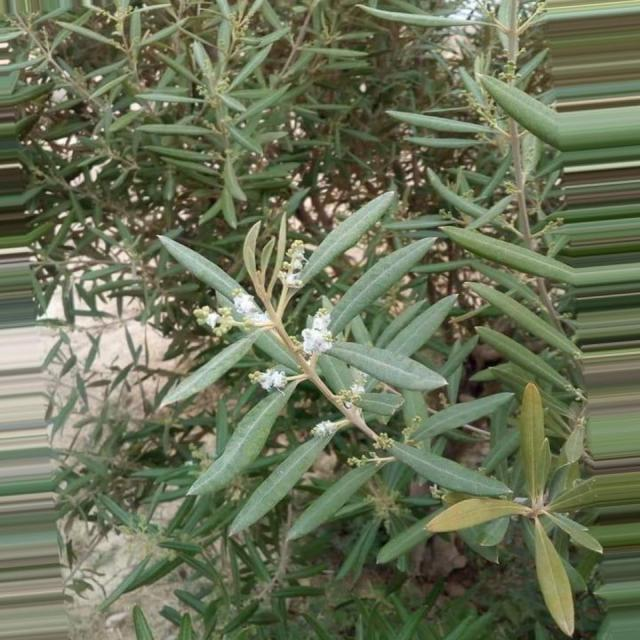Psyllid: (300, 309, 336, 362), (277, 241, 307, 298), (233, 287, 273, 329), (338, 369, 371, 410), (250, 369, 292, 392), (311, 420, 337, 438)
